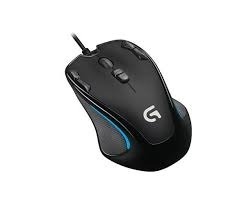mouse: (63, 40, 196, 172)
